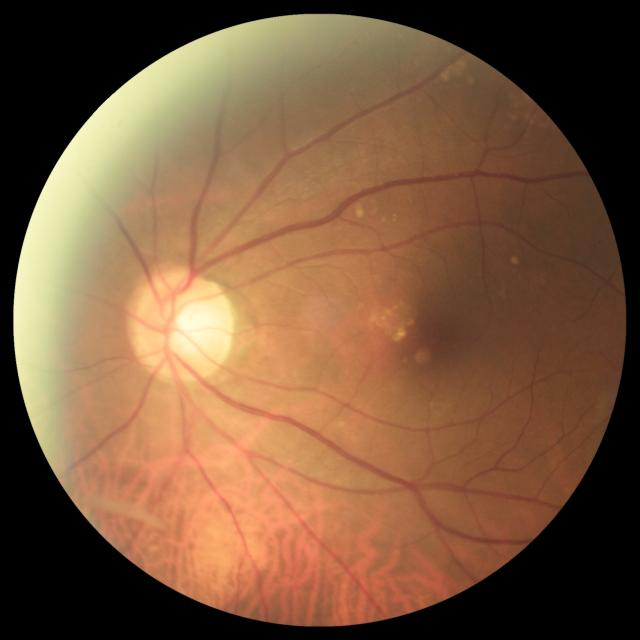OC: (161, 298, 215, 356)
OD: (131, 269, 233, 380)
